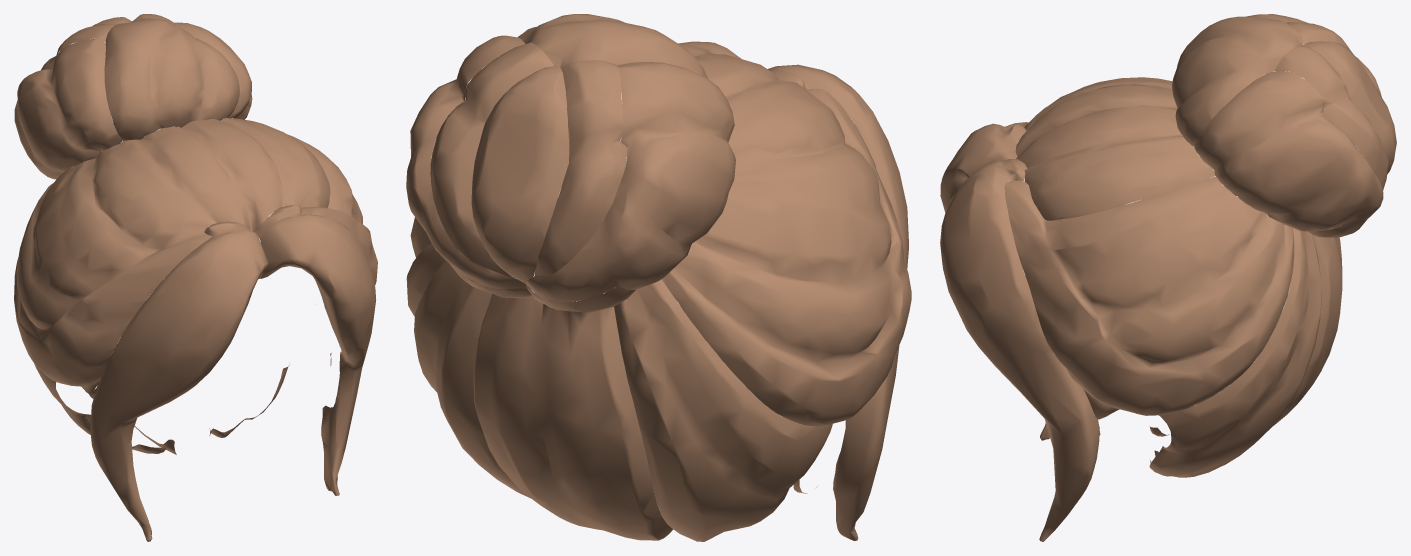
The model's file is hair_12.glb.
3 renders of one model, left to right at view 1: azimuth 30°, elevation 25°; view 2: azimuth 150°, elevation 25°; view 3: azimuth 270°, elevation 25°, orthographic. The views are drawn at different scales.
Parts seen in each view (by area): view 1: hair; view 2: hair; view 3: hair.
Part boxes in pixels (left/top/right/bottom): hair: left=14, top=14, right=377, bottom=541; hair: left=406, top=14, right=911, bottom=541; hair: left=940, top=14, right=1396, bottom=541.
Size of the model in its own units: 0.4705 by 0.5923 by 0.5271.
